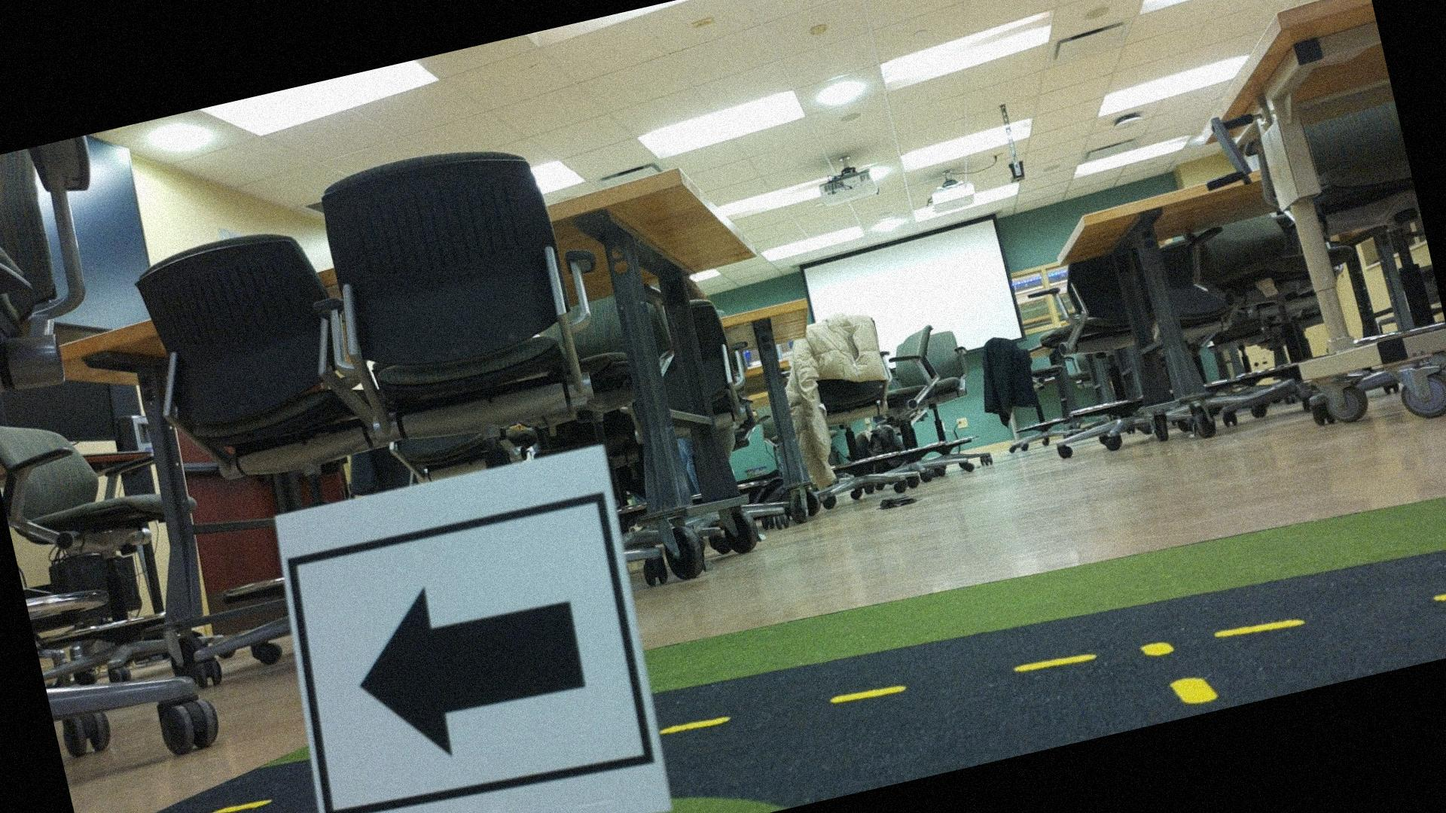turnleft: (283, 456, 657, 812)
yellowline: (663, 535, 1445, 781)
